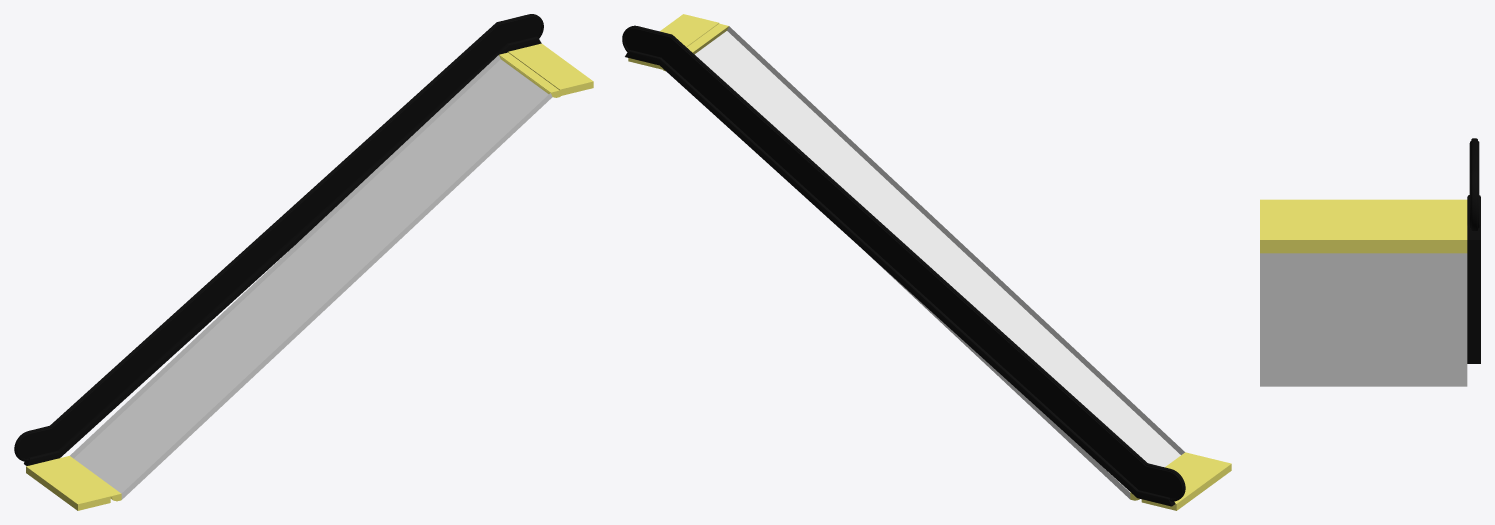
Rendered from Escalator_v2 (1).fbx.
3 views of the same model, side by side, from view 1: azimuth 30°, elevation 25°; view 2: azimuth 150°, elevation 25°; view 3: azimuth 270°, elevation 25° (orthographic). The views are drawn at different scales.
Visible parts, largest first — view 1: Plane001, Glass, Rail_Base, Railing, Lower, Higher, Step; view 2: Plane001, Glass, Rail_Base, Railing, Lower, Higher; view 3: Plane001, Higher, Rail_Base, Step, Railing.
Boxes of the visible parts, x1,y1,x2,y2 form: Plane001: [70, 55, 552, 499]; Glass: [18, 17, 541, 458]; Rail_Base: [24, 36, 541, 465]; Railing: [14, 14, 543, 461]; Lower: [26, 458, 111, 510]; Higher: [508, 43, 593, 95]; Step: [499, 52, 560, 97]; Plane001: [694, 26, 1184, 499]; Glass: [625, 29, 1181, 498]; Rail_Base: [625, 50, 1175, 506]; Railing: [622, 25, 1185, 501]; Lower: [1141, 455, 1231, 510]; Higher: [628, 14, 719, 69]; Plane001: [1260, 253, 1467, 386]; Higher: [1260, 207, 1467, 253]; Rail_Base: [1467, 195, 1480, 363]; Step: [1260, 199, 1467, 206]; Railing: [1469, 138, 1479, 230].
Bounding box in the file's own units: 17.67 × 10.66 × 3.2.
